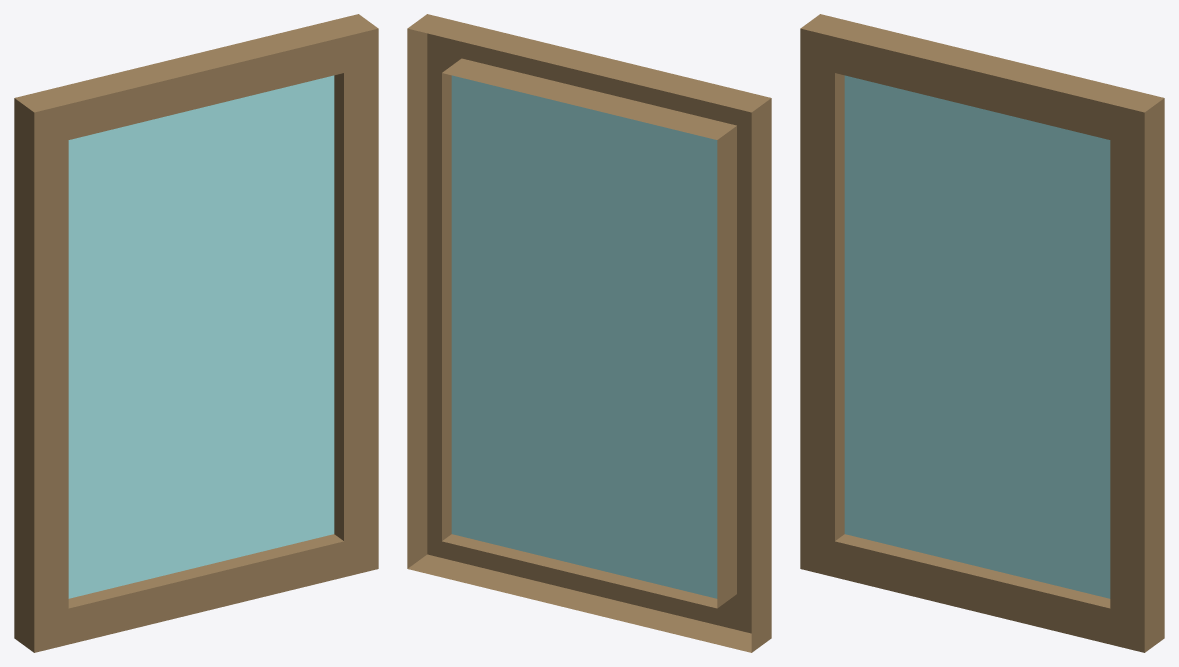
Rendered from WINDOW_RECT_A.fbx.
3 renders of one model, left to right at view 1: azimuth 30°, elevation 25°; view 2: azimuth 150°, elevation 25°; view 3: azimuth 330°, elevation 25°, orthographic.
Visible parts, largest first — view 1: WINDOW_BASIC; view 2: WINDOW_BASIC; view 3: WINDOW_BASIC.
Part boxes in pixels (x1,y1,x2,y2): WINDOW_BASIC: (14,14,378,652); WINDOW_BASIC: (407,14,771,652); WINDOW_BASIC: (800,14,1164,652).
Bounding box in the file's own units: 100 × 150 × 10.
